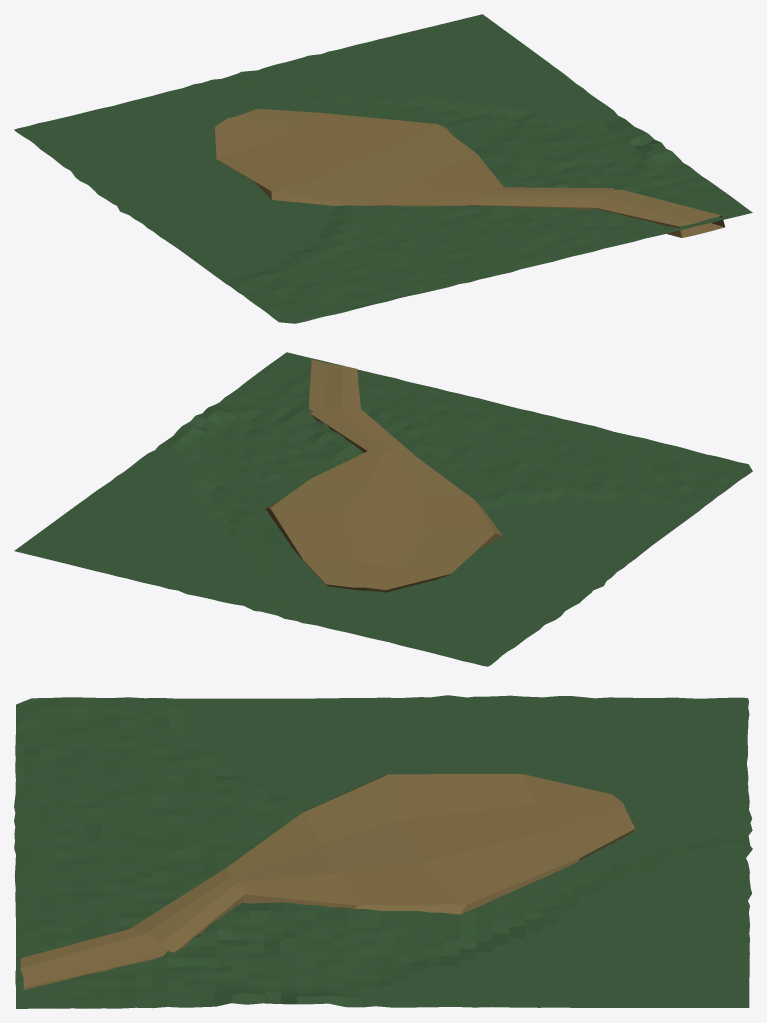
File: athili_copse_section14.glb
3 views of the same model, one above another, from view 1: azimuth 30°, elevation 25°; view 2: azimuth 150°, elevation 25°; view 3: azimuth 270°, elevation 25° (orthographic). The views are drawn at different scales.
Visible parts, largest first — view 1: Grass, Road; view 2: Grass, Road; view 3: Grass, Road.
Boxes of the visible parts, left/top/right/bottom form: Grass: left=14, top=14, right=752, bottom=323; Road: left=215, top=108, right=724, bottom=237; Grass: left=14, top=352, right=752, bottom=666; Road: left=265, top=359, right=502, bottom=592; Grass: left=14, top=695, right=752, bottom=1008; Road: left=15, top=774, right=635, bottom=990.
Bounding box in the file's own units: 59.83 × 1.74 × 59.59.
